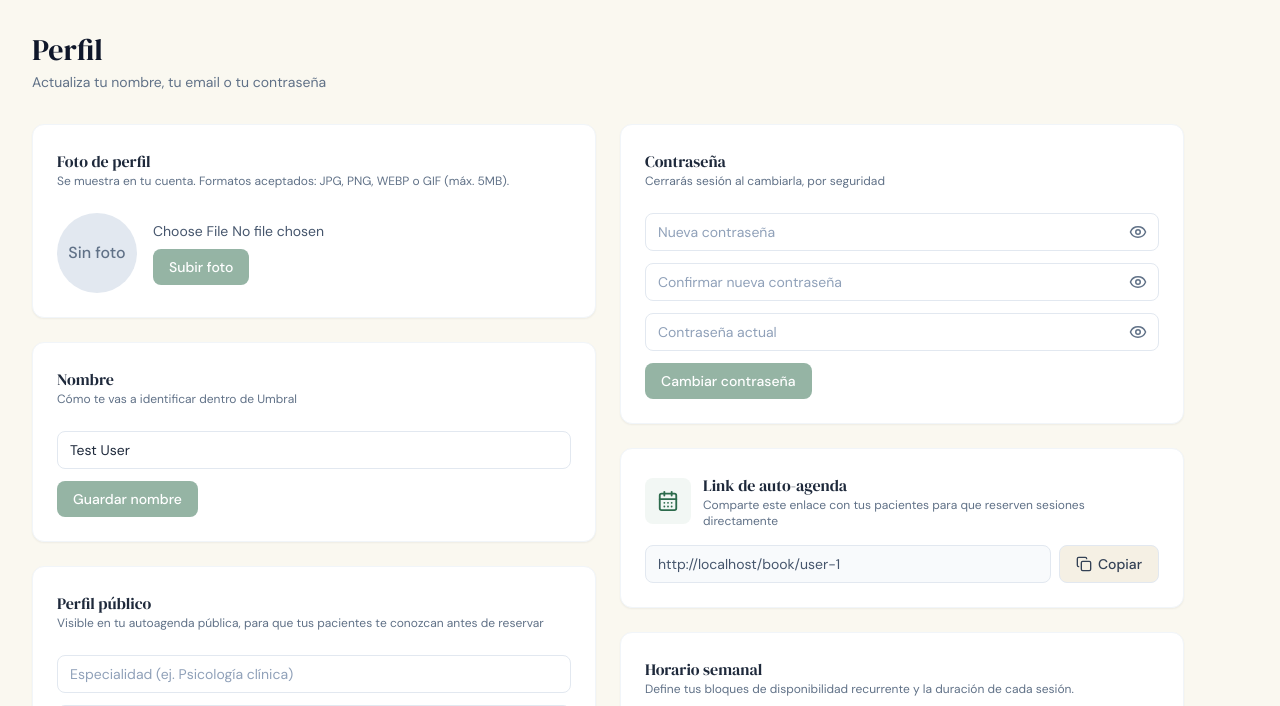
Test: ProfilePage — account-settings Req: Profile Section Scope › el mensaje de éxito del nombre desaparece al volver a editarlo
The width and height of the screenshot is (1280, 706).
Replace the text in the field named "Nombre" with "Nuevo Nombre". click: point(314, 450)
box: top-left (57, 431), bottom-right (571, 469)
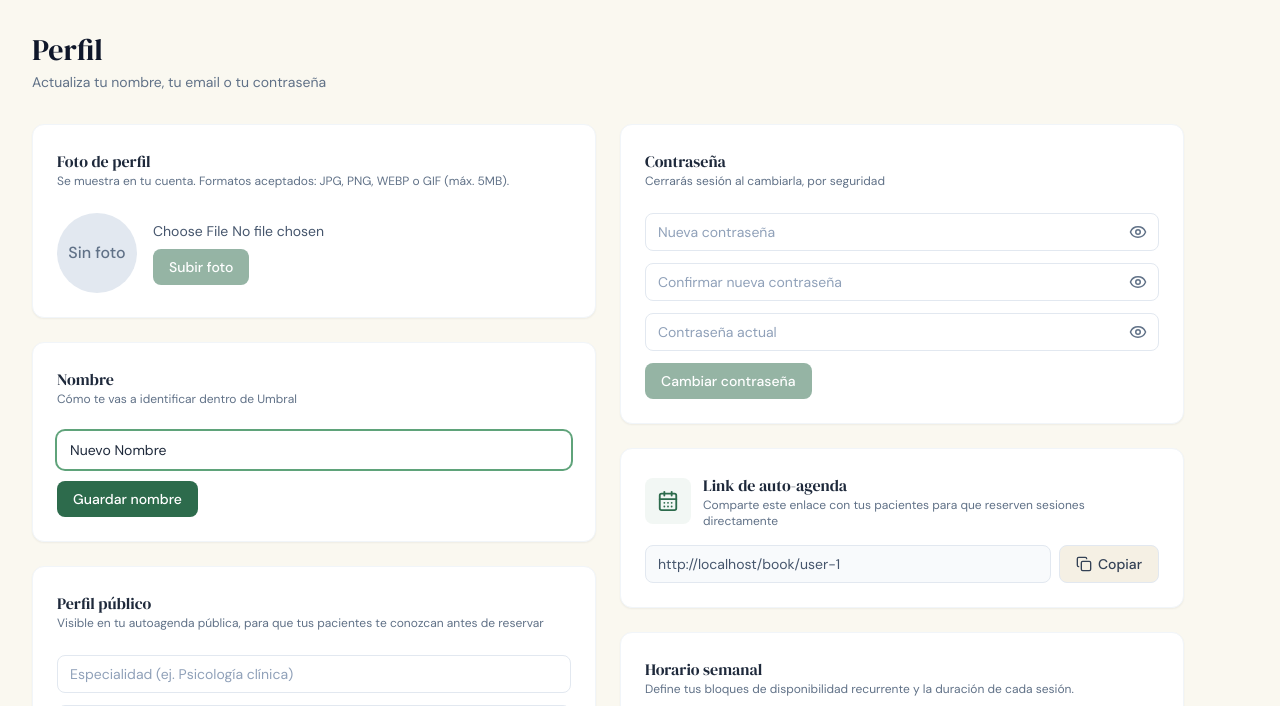
Click the button "Guardar nombre". click: point(127, 499)
box: top-left (57, 481), bottom-right (198, 517)
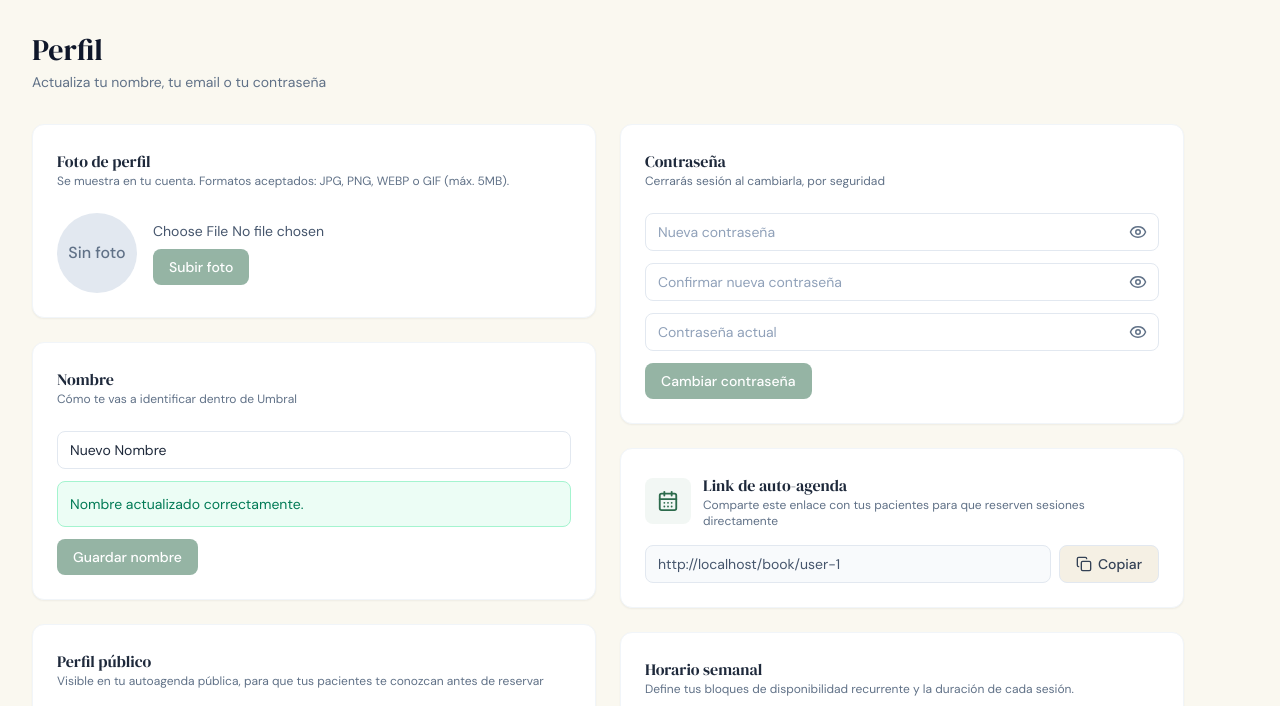
Expected: the text "Nombre actualizado correctamente." is shown, top-left (70, 495), bottom-right (303, 513)
Type "x" into the field named "Nombre". click: point(314, 450)
box: top-left (57, 431), bottom-right (571, 469)
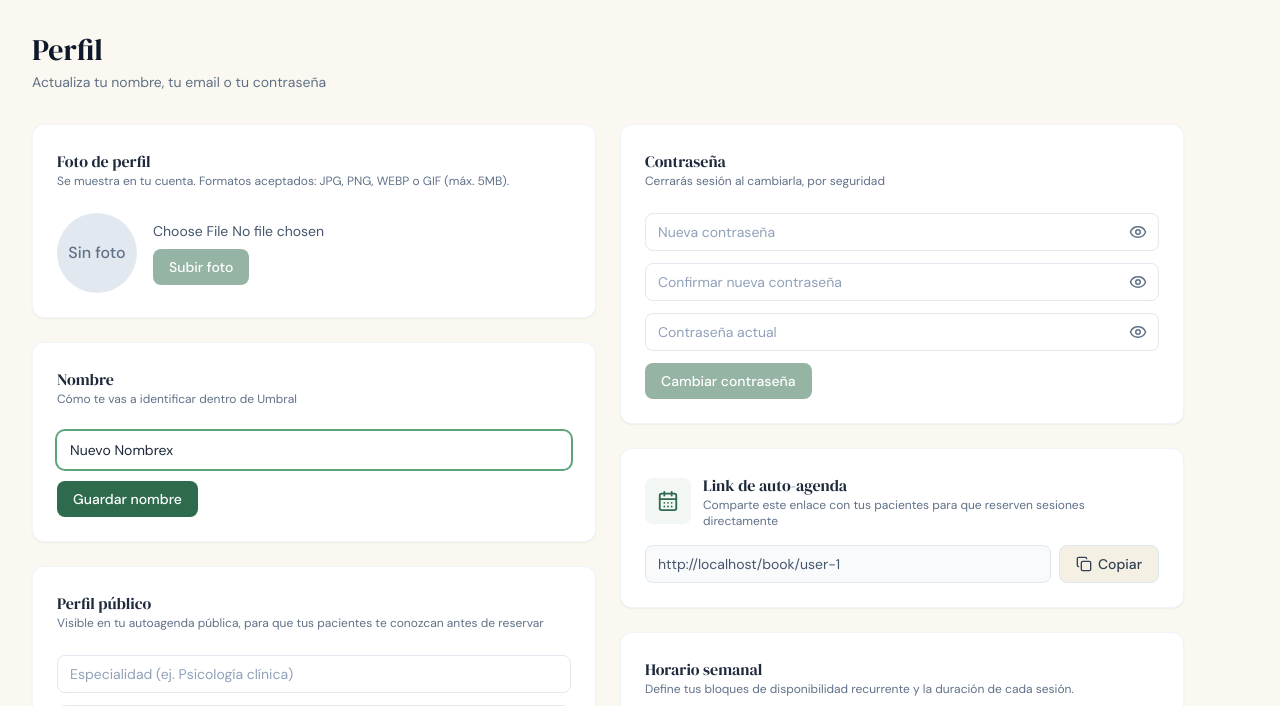
Expected: the text "Nombre actualizado correctamente." is gone
